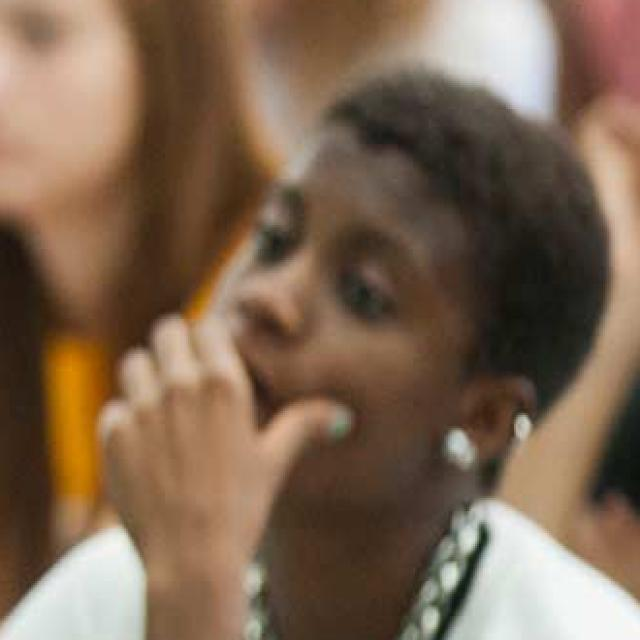Attentive: (206, 122, 475, 509)
